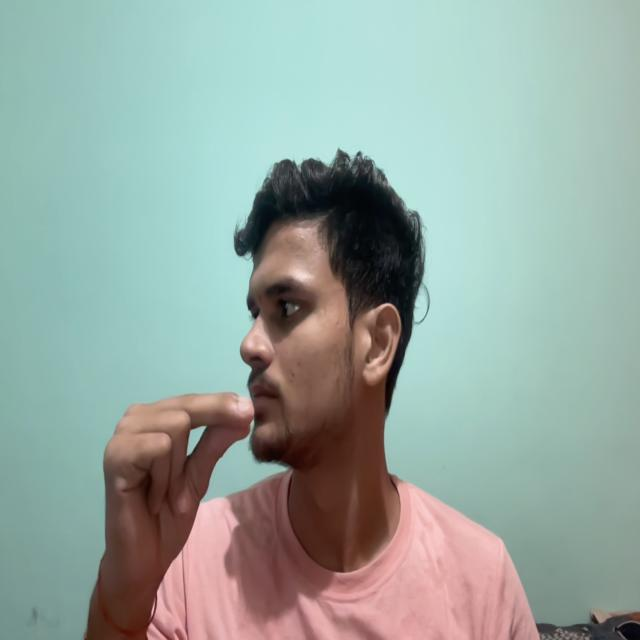No: (66, 370, 259, 623)
